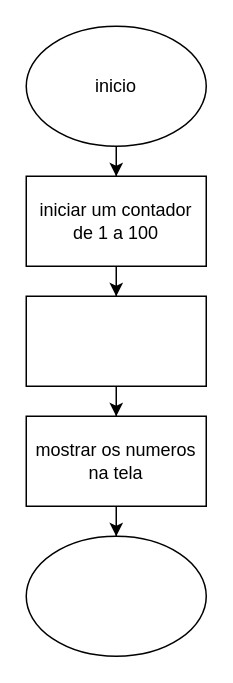
This 233x683 diagram has some shape labels left out. The shapes that lost their labels are listed below. From the top down, each one's box as (x1, y1, x2, y2) in pixels, then its label:
(25, 295, 206, 386): pular os numeros impares usando o resto da divisão por 2 == 0
(25, 535, 206, 656): Fim
